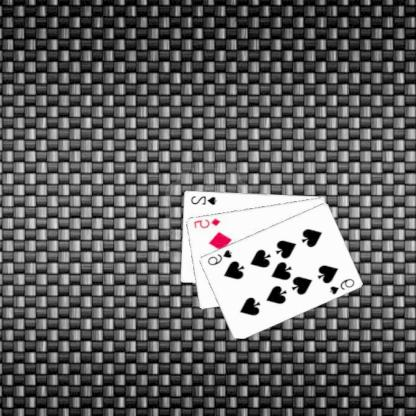2S: (190, 193, 220, 206)
5D: (192, 215, 223, 230)
9S: (328, 275, 358, 296), (206, 246, 234, 266)
